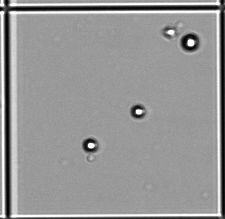Living Cell: (181, 33, 200, 51), (82, 137, 99, 152), (130, 104, 146, 119), (162, 26, 177, 38)
